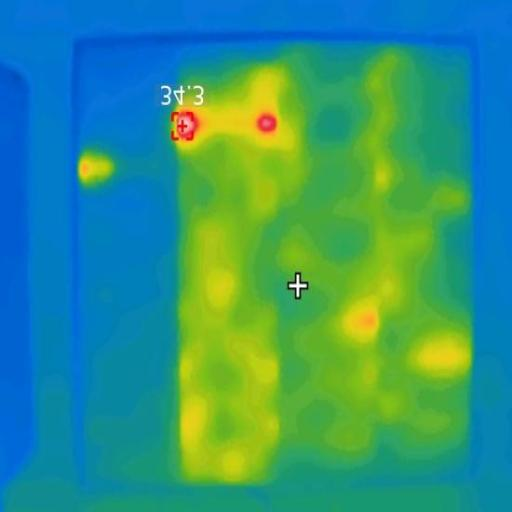hotspot: (255, 108, 280, 140), (170, 112, 198, 140)
